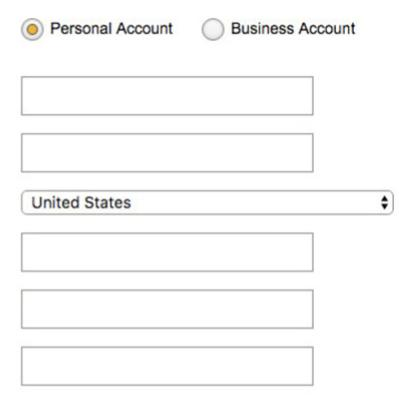field: (18, 230, 314, 273), (17, 344, 314, 386), (17, 74, 314, 115), (17, 289, 314, 330), (17, 133, 314, 172), (21, 189, 394, 216)
radio: (20, 17, 50, 42), (201, 17, 226, 42)
radio_with_label: (198, 14, 359, 45), (16, 13, 177, 43)
